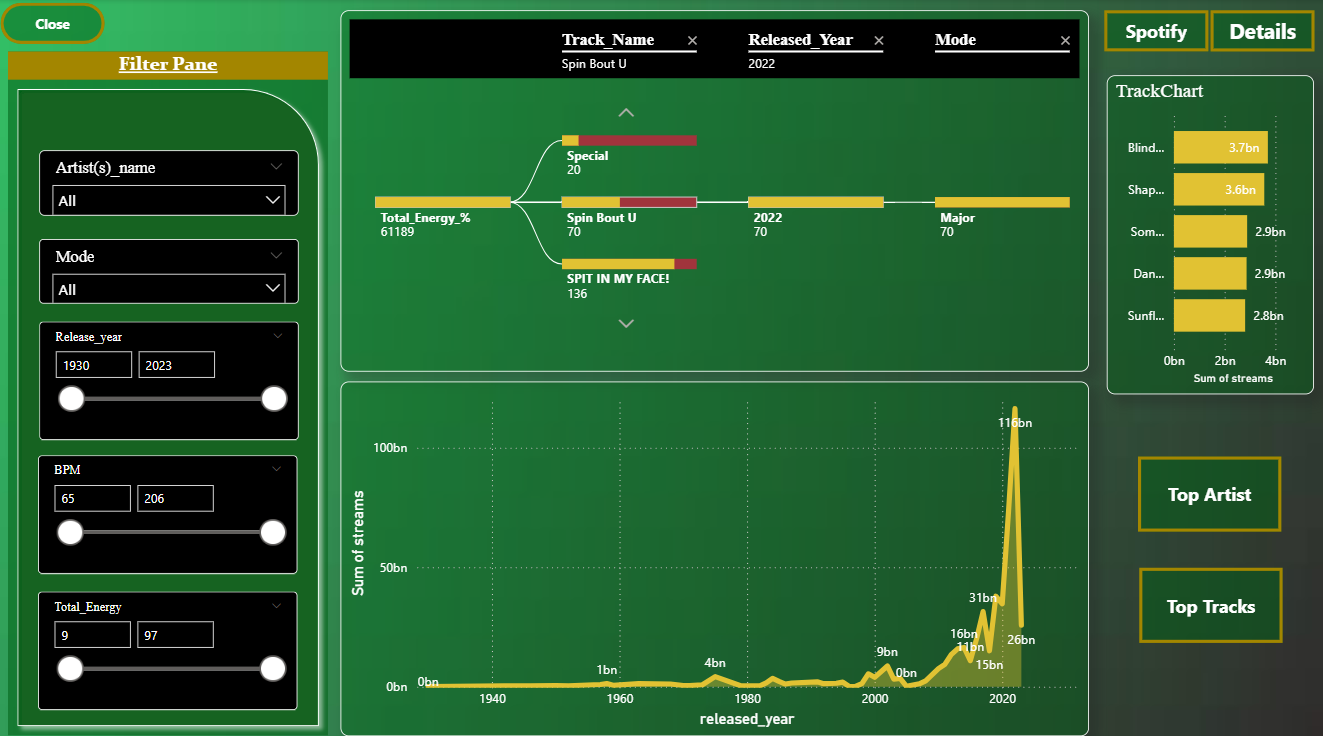

The dashboard page shown, as its layout file describes it:
{"tool":"powerbi","page":{"name":"Filter Pane","canvas":[1280,720],"ordinal":2},"visuals":[{"type":"shape","title":"Filter Pane","box":[9.9,50.9,309.1,660.4],"z":0},{"type":"slicer","fields":{"Values":["spotify-2023.artist(s)_name"]},"box":[39.7,146.5,250.7,63.3],"z":1000},{"type":"slicer","fields":{"Values":["spotify-2023.mode"]},"box":[39.7,232.1,250.7,62.1],"z":2000},{"type":"slicer","fields":{"Values":["spotify-2023.bpm"]},"box":[38.5,440.7,250.7,114.2],"z":3000},{"type":"slicer","fields":{"Values":["spotify-2023.released_year"]},"box":[39.7,311.6,250.7,114.2],"z":4000},{"type":"slicer","fields":{"Values":["spotify-2023.energy_%"]},"box":[38.5,572.2,250.7,114.2],"z":5000},{"type":"actionButton","box":[2.5,3.7,100.5,39.7],"z":6000},{"type":"actionButton","box":[1170.6,10.4,100.4,39.8],"z":8000},{"type":"actionButton","box":[1067.5,11.2,100.5,39.7],"z":9000},{"type":"decompositionTreeVisual","title":"dd","fields":{"Analyze":["Sum(spotify-2023.energy_%)"],"ExplainBy":["spotify-2023.track_name","spotify-2023.released_year","spotify-2023.mode"]},"box":[330.2,11.2,722.4,348.8],"z":10000},{"type":"actionButton","box":[1100.3,442,138.4,72.5],"z":12000},{"type":"actionButton","box":[1101.6,549.5,138.4,72.5],"z":13000},{"type":"lineChart","fields":{"Y":["Sum(spotify-2023.streams)"],"Category":["spotify-2023.released_year"]},"box":[330.2,368.7,722.4,342.6],"z":14000},{"type":"clusteredBarChart","title":"TrackChart","fields":{"Category":["spotify-2023.track_name"],"Y":["Sum(spotify-2023.streams)"]},"box":[1070,73.2,199.8,307.8],"z":15000}]}

Visuals, with their boxes in screenshot pixels (x1, y1, x2, y2), scaled from the page's 1280x720 canvas onto the 1323x736 screenshot:
"Filter Pane" shape: l=10, t=52, r=330, b=727
slicer - spotify-2023.artist(s)_name: l=41, t=150, r=300, b=214
slicer - spotify-2023.mode: l=41, t=237, r=300, b=301
slicer - spotify-2023.bpm: l=40, t=450, r=299, b=567
slicer - spotify-2023.released_year: l=41, t=319, r=300, b=435
slicer - spotify-2023.energy_%: l=40, t=585, r=299, b=702
actionButton: l=3, t=4, r=106, b=44
actionButton: l=1210, t=11, r=1314, b=51
actionButton: l=1103, t=11, r=1207, b=52
"dd" decompositionTreeVisual: l=341, t=11, r=1088, b=368
actionButton: l=1137, t=452, r=1280, b=526
actionButton: l=1139, t=562, r=1282, b=636
lineChart - Sum(spotify-2023.streams) x spotify-2023.released_year: l=341, t=377, r=1088, b=727
"TrackChart" clusteredBarChart: l=1106, t=75, r=1312, b=389
